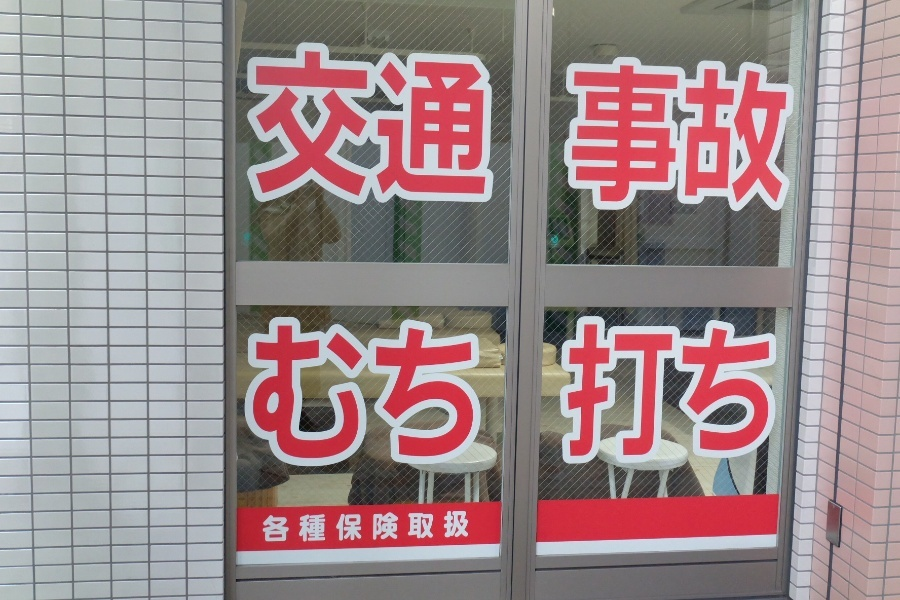text: (257, 40, 272, 208), (273, 40, 288, 208), (289, 40, 304, 208), (305, 40, 320, 208), (321, 40, 336, 208), (337, 40, 352, 208), (353, 40, 368, 208), (369, 40, 384, 208), (385, 40, 400, 208), (401, 40, 416, 208), (417, 40, 432, 208), (433, 40, 448, 208), (449, 40, 464, 208), (465, 40, 480, 208), (481, 40, 496, 208), (577, 55, 592, 216), (593, 55, 608, 216), (609, 55, 624, 216), (625, 55, 640, 216), (641, 55, 656, 216), (657, 55, 672, 216), (673, 55, 688, 216), (689, 55, 704, 216), (705, 55, 720, 216), (721, 55, 736, 216), (737, 55, 752, 216), (753, 55, 768, 216), (769, 55, 784, 216), (257, 316, 272, 472), (273, 316, 288, 472), (289, 316, 304, 472), (305, 316, 320, 472), (321, 316, 336, 472), (337, 316, 352, 472), (353, 316, 368, 472), (369, 316, 384, 472), (385, 316, 400, 472), (401, 316, 416, 472), (417, 316, 432, 472), (433, 316, 448, 472), (449, 316, 464, 472), (465, 316, 480, 472), (577, 317, 592, 469), (593, 317, 608, 469), (609, 317, 624, 469), (625, 317, 640, 469), (641, 317, 656, 469), (657, 317, 672, 469), (673, 317, 688, 469), (689, 317, 704, 469), (705, 317, 720, 469), (721, 317, 736, 469), (737, 317, 752, 469), (753, 317, 768, 469), (769, 317, 784, 469), (245, 40, 256, 208), (565, 55, 576, 216), (785, 55, 796, 216), (245, 316, 256, 472), (566, 317, 576, 469), (273, 512, 288, 546), (289, 512, 304, 546), (305, 512, 320, 546), (497, 40, 500, 208), (417, 511, 432, 542), (433, 511, 448, 542), (449, 511, 464, 542), (337, 512, 352, 541), (353, 512, 368, 541), (369, 512, 384, 541), (385, 512, 400, 541), (262, 512, 272, 546), (406, 511, 416, 542), (321, 512, 330, 546), (481, 316, 482, 472), (465, 511, 470, 542), (785, 317, 786, 469), (334, 512, 336, 541)
